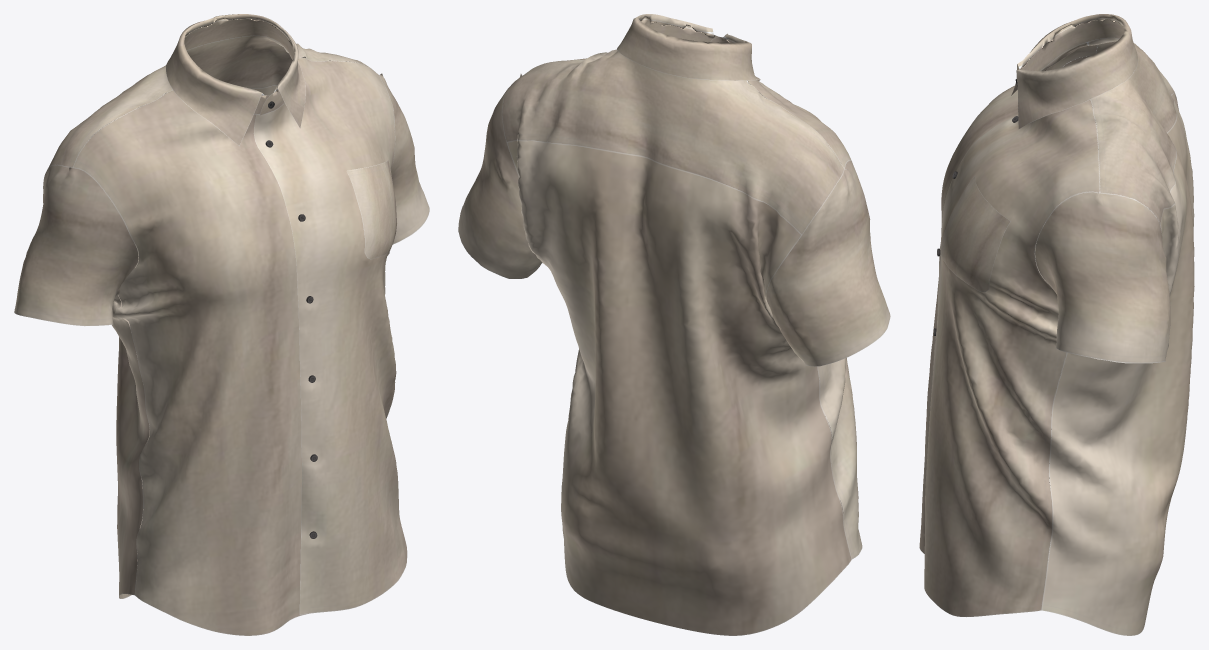
The model's file is Peach colour half sleeve shirt,Mtrapezoid-24.fbx.
3 renders of one model, left to right at view 1: azimuth 30°, elevation 25°; view 2: azimuth 150°, elevation 25°; view 3: azimuth 270°, elevation 25°, orthographic. The views are drawn at different scales.
Parts seen in each view (by area): view 1: Peach colour half sleeve shirt,Mtrapezoid-24; view 2: Peach colour half sleeve shirt,Mtrapezoid-24; view 3: Peach colour half sleeve shirt,Mtrapezoid-24.
Part boxes in pixels (x1,y1,x2,y2): Peach colour half sleeve shirt,Mtrapezoid-24: (14, 14, 429, 635); Peach colour half sleeve shirt,Mtrapezoid-24: (458, 14, 890, 635); Peach colour half sleeve shirt,Mtrapezoid-24: (919, 14, 1194, 635).
Bounding box in the file's own units: 24.8 × 32.84 × 14.31.
7 materials, 7 textured.
